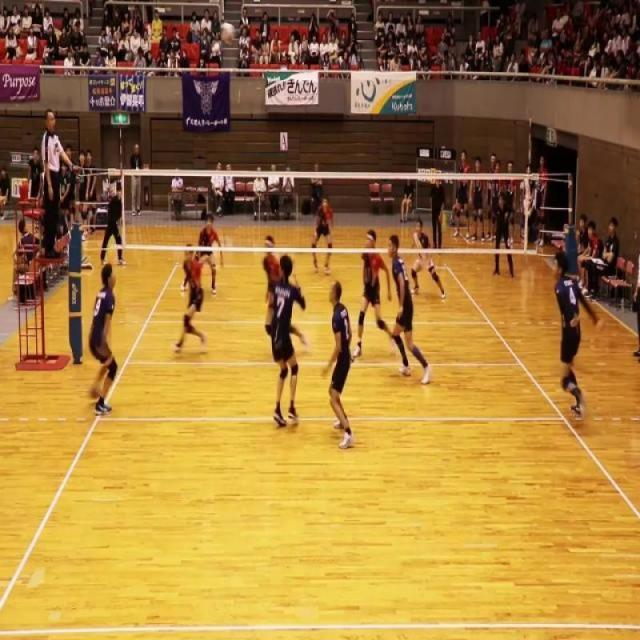volleyball: (220, 19, 236, 46)
